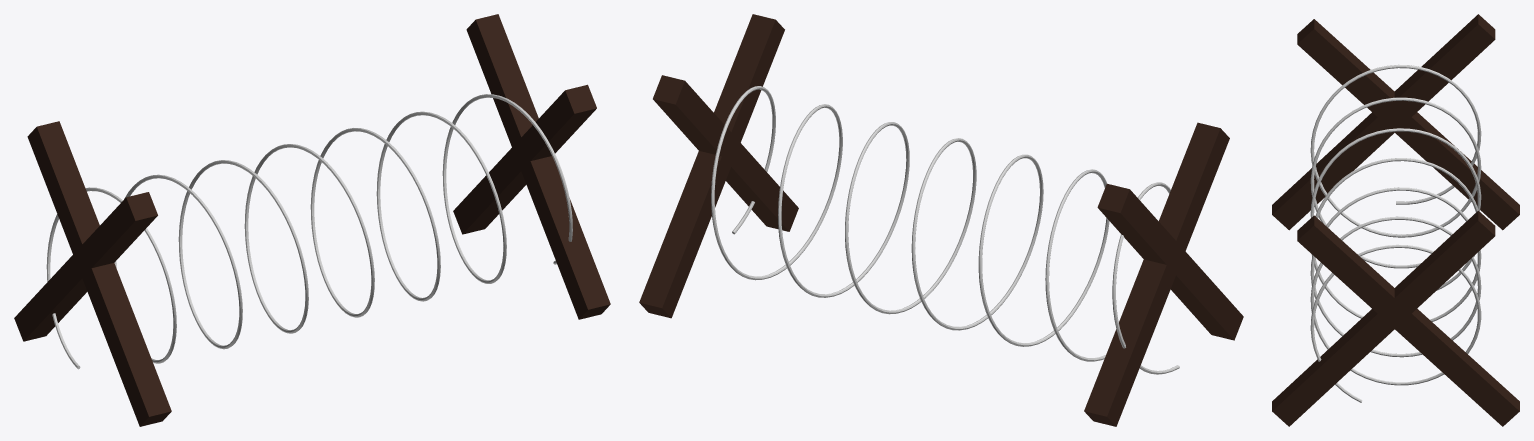
The model's file is barbed_wire.FBX.
The picture shows the model from 3 angles, left to right: view 1: azimuth 30°, elevation 25°; view 2: azimuth 150°, elevation 25°; view 3: azimuth 270°, elevation 25°; orthographic projection. The views are drawn at different scales.
Visible parts, largest first — view 1: barbed_wire; view 2: barbed_wire; view 3: barbed_wire.
Boxes of the visible parts, x1,y1,x2,y2 form: barbed_wire: (14, 14, 610, 426); barbed_wire: (639, 14, 1243, 426); barbed_wire: (1272, 14, 1519, 426).
Size of the model in its own units: 176 by 88.49 by 81.32.
